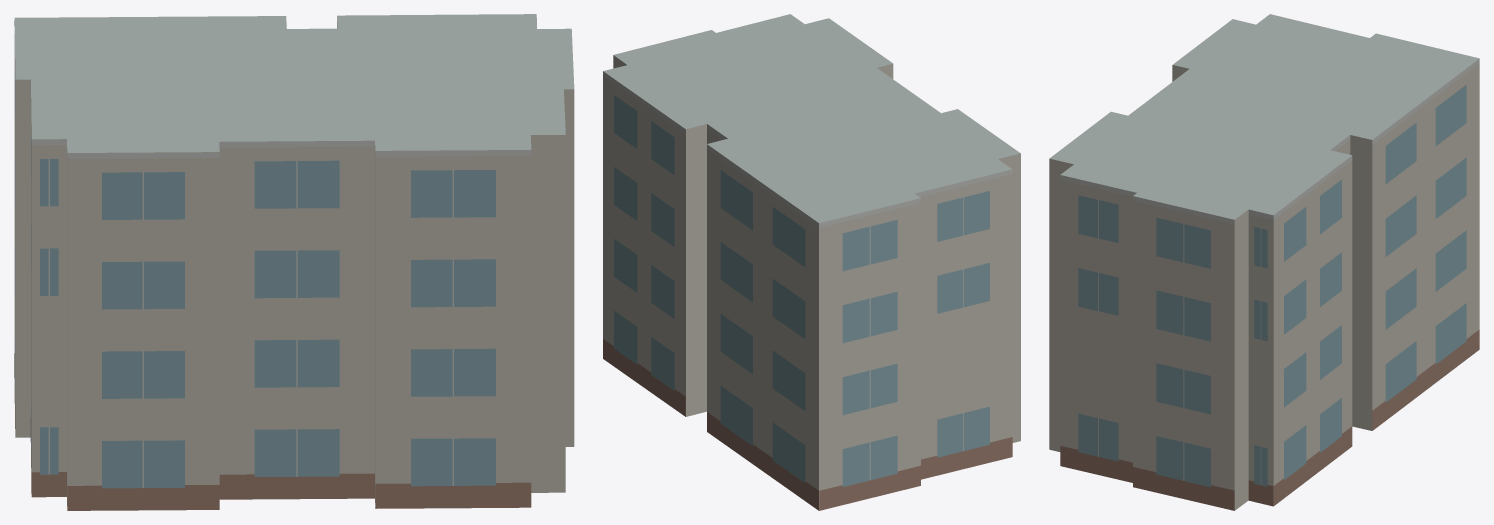
Rendered from survey-upis-32923141.glb.
3 views of the same model, side by side, from view 1: azimuth 30°, elevation 25°; view 2: azimuth 150°, elevation 25°; view 3: azimuth 270°, elevation 25° (orthographic). The views are drawn at different scales.
Parts seen in each view (by area): view 1: survey-upis-32923141.tmp; view 2: survey-upis-32923141.tmp; view 3: survey-upis-32923141.tmp.
Boxes of the visible parts, x1,y1,x2,y2 form: survey-upis-32923141.tmp: (14,14,574,510); survey-upis-32923141.tmp: (603,14,1020,510); survey-upis-32923141.tmp: (1049,14,1479,510).
Size of the model in its own units: 22.37 by 14.75 by 19.77.
